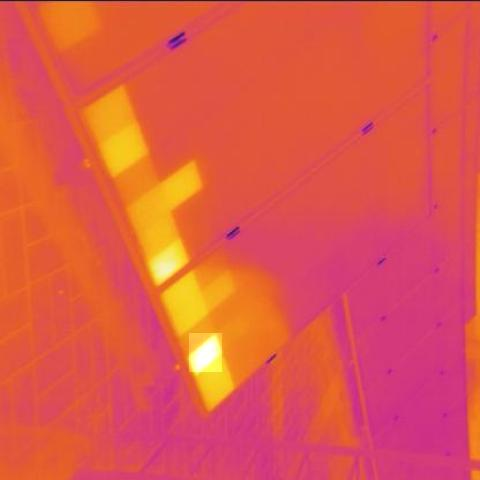fault: (189, 333, 222, 372), (145, 251, 184, 282)
